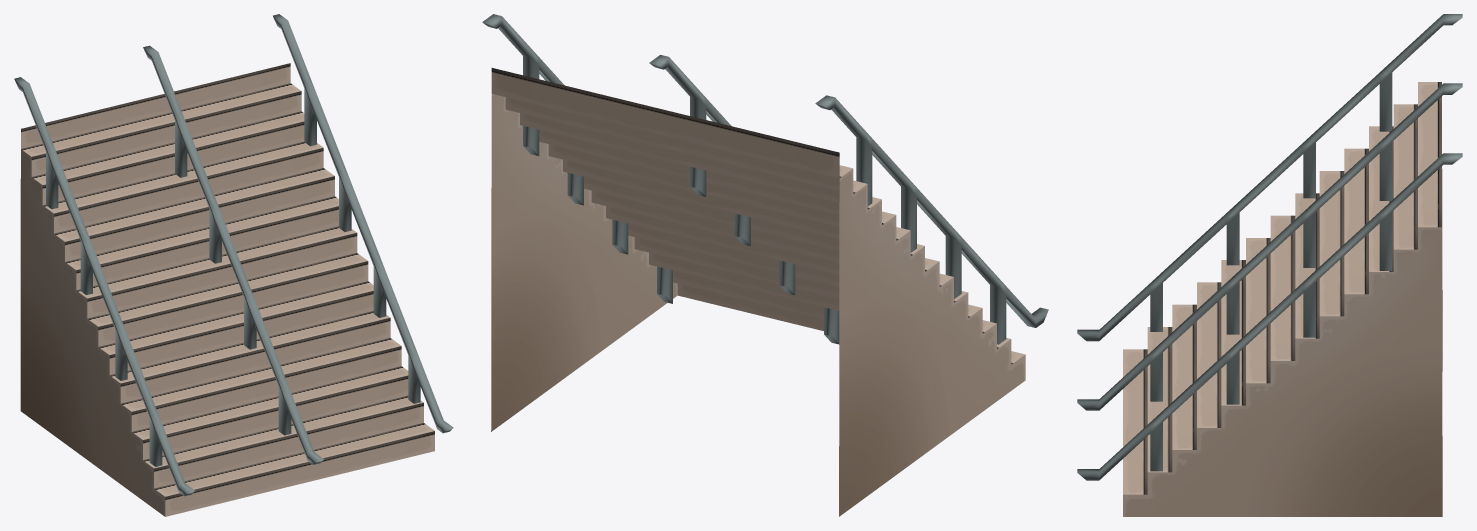
The model's file is escalier.fbx.
The picture shows the model from 3 angles, left to right: view 1: azimuth 30°, elevation 25°; view 2: azimuth 150°, elevation 25°; view 3: azimuth 270°, elevation 25°; orthographic projection. The views are drawn at different scales.
Visible parts, largest first — view 1: escalier; view 2: escalier; view 3: escalier.
Part boxes in pixels (left/top/right/bottom): escalier: left=14, top=14, right=453, bottom=516; escalier: left=482, top=14, right=1048, bottom=516; escalier: left=1077, top=14, right=1462, bottom=516.
Bounding box in the file's own units: 200 × 230 × 224.
